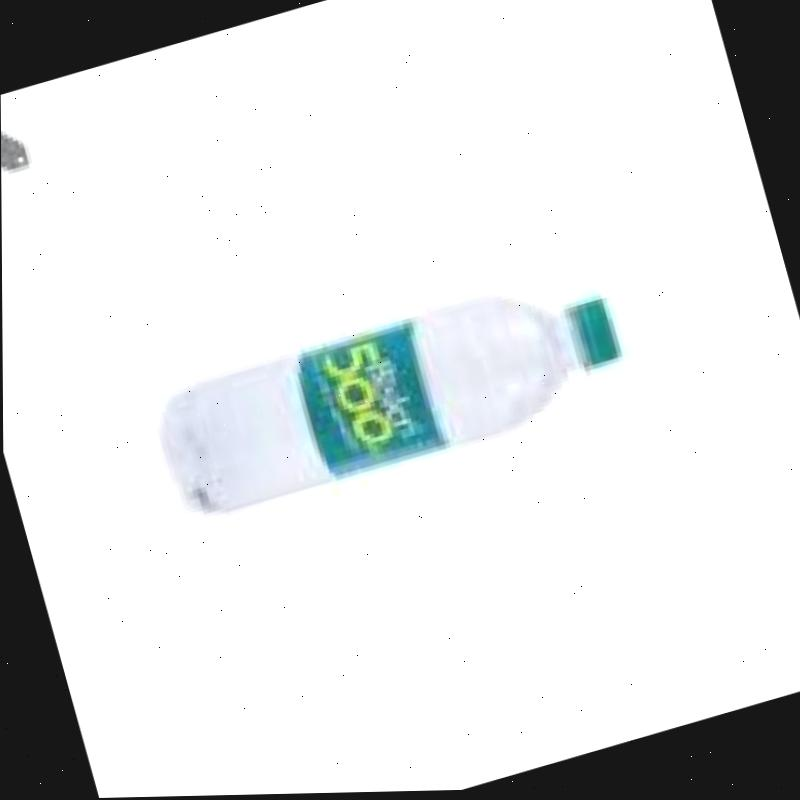botella: (143, 259, 636, 530)
